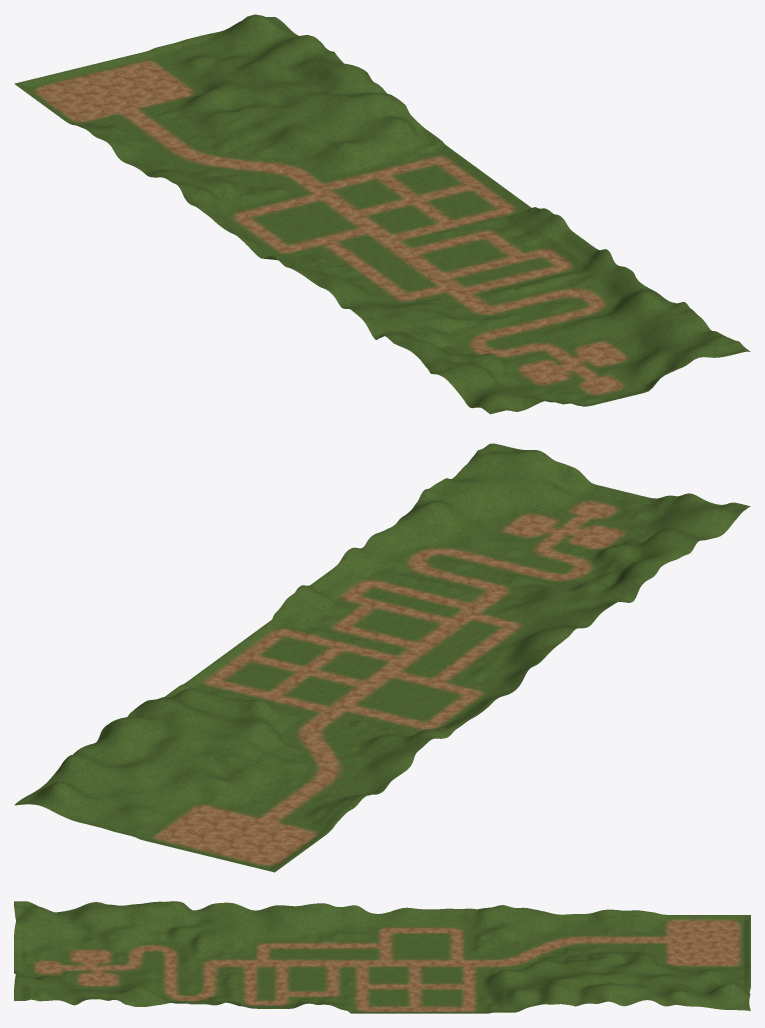
The model's file is ground3.fbx.
3 views of the same model, one above another, from view 1: azimuth 30°, elevation 25°; view 2: azimuth 150°, elevation 25°; view 3: azimuth 270°, elevation 25° (orthographic). The views are drawn at different scales.
Visible parts, largest first — view 1: ground; view 2: ground; view 3: ground.
Boxes of the visible parts, box(x1,y1,x2,y2) form: ground: box(14, 14, 750, 414); ground: box(14, 443, 750, 872); ground: box(14, 901, 750, 1013).
Bounding box in the file's own units: 252 × 26.33 × 797.
Materials: 1 (1 with a texture image).
